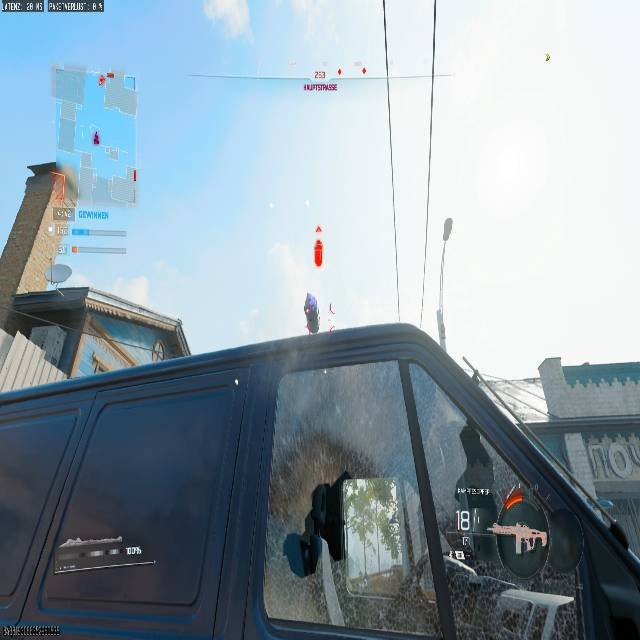head: (305, 291, 311, 297)
player: (303, 291, 318, 333)
